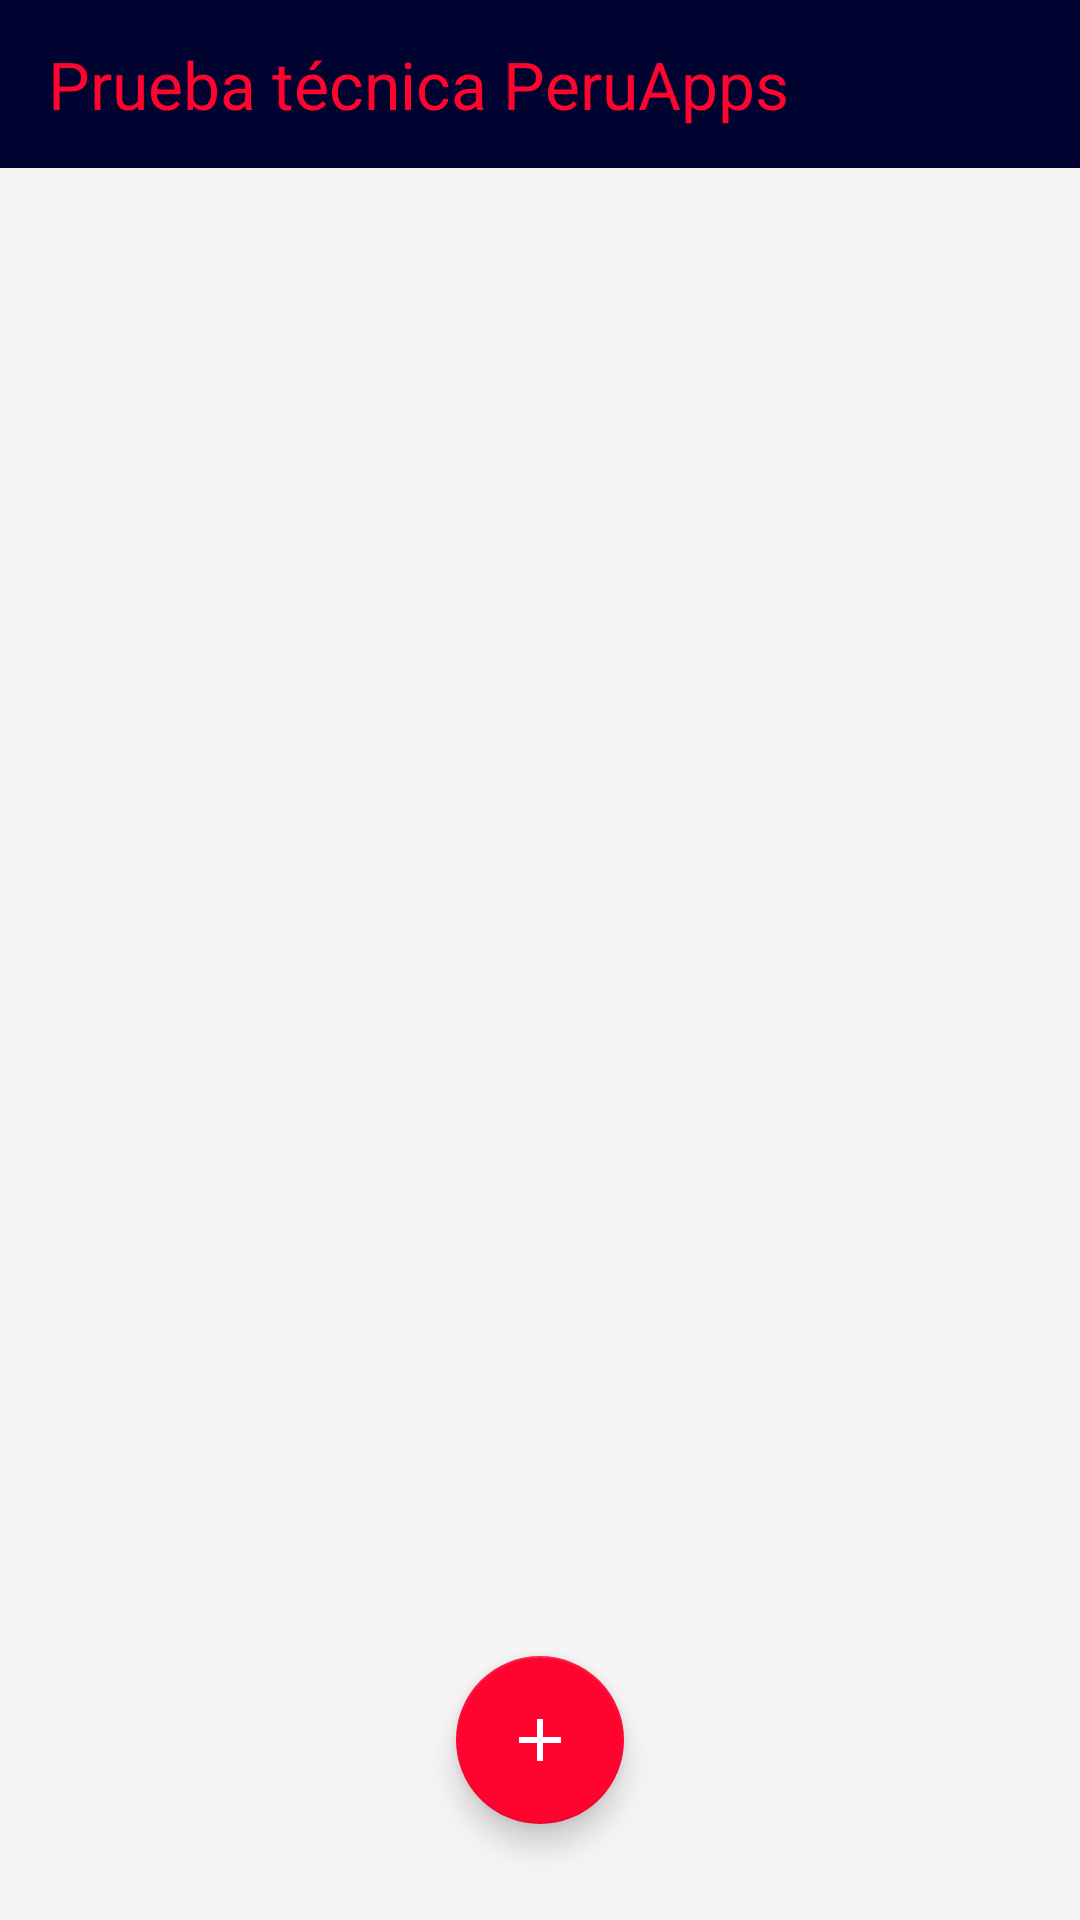

Named icons in this screenshot (1080*1920) and their centers, [x,y]:
add mensaje: [540,1740]
